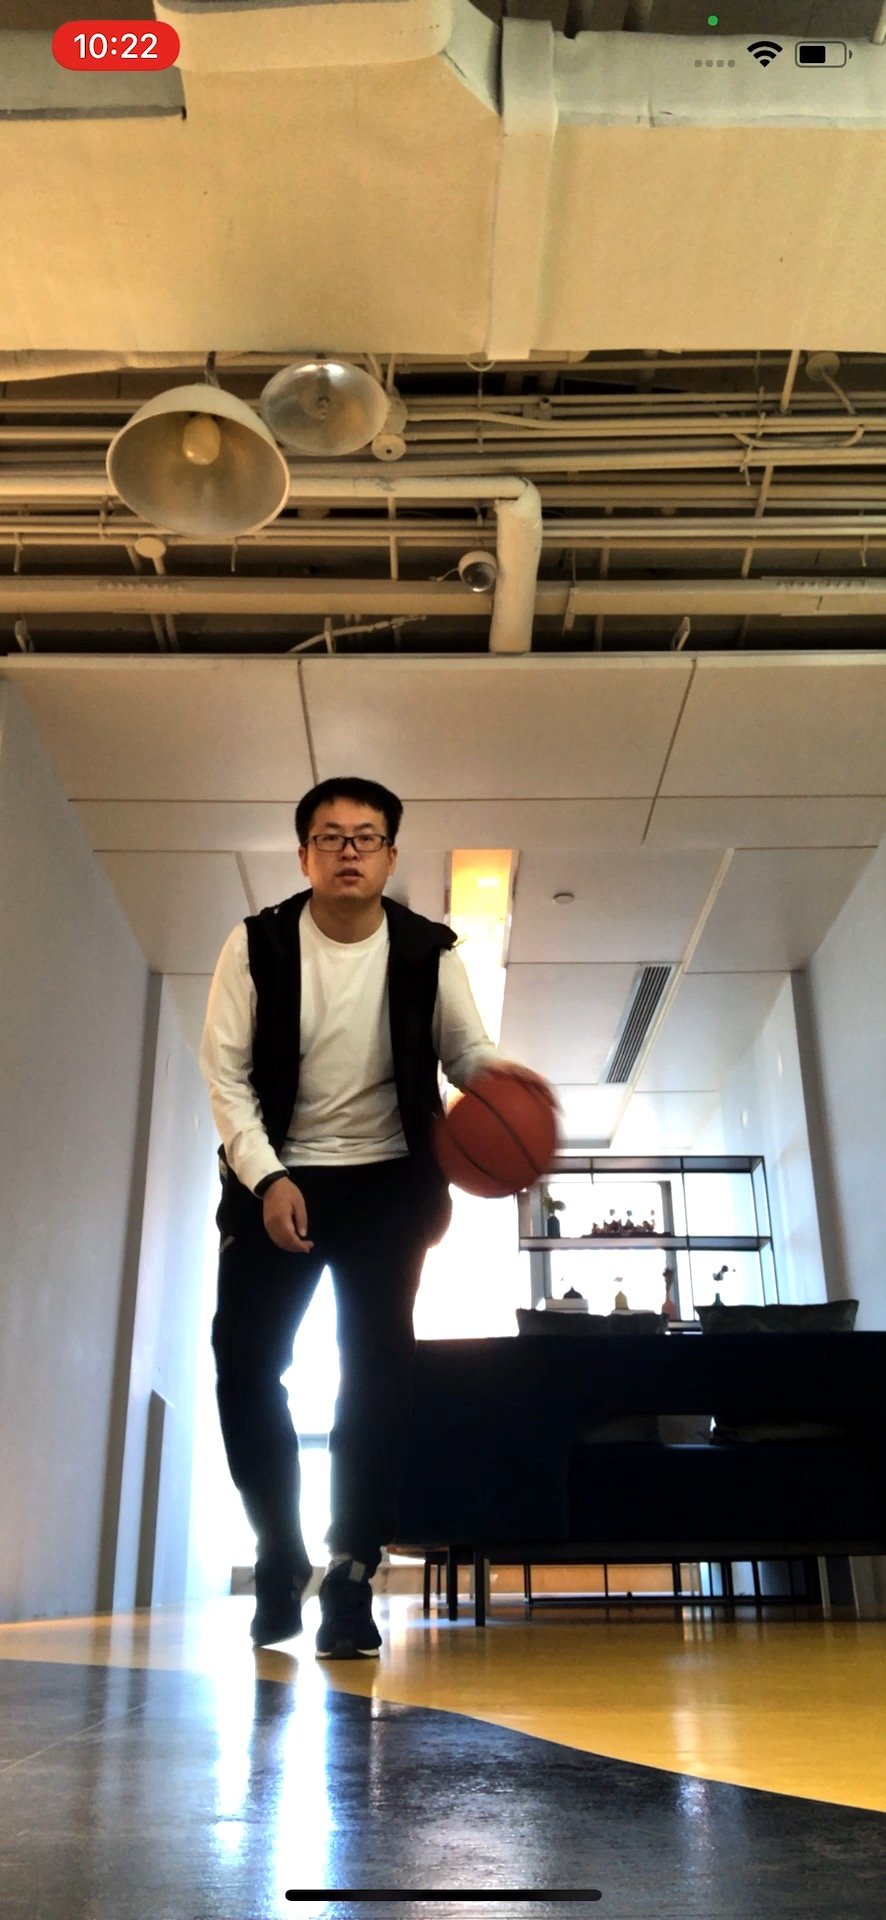ball: (434, 1070, 560, 1200)
